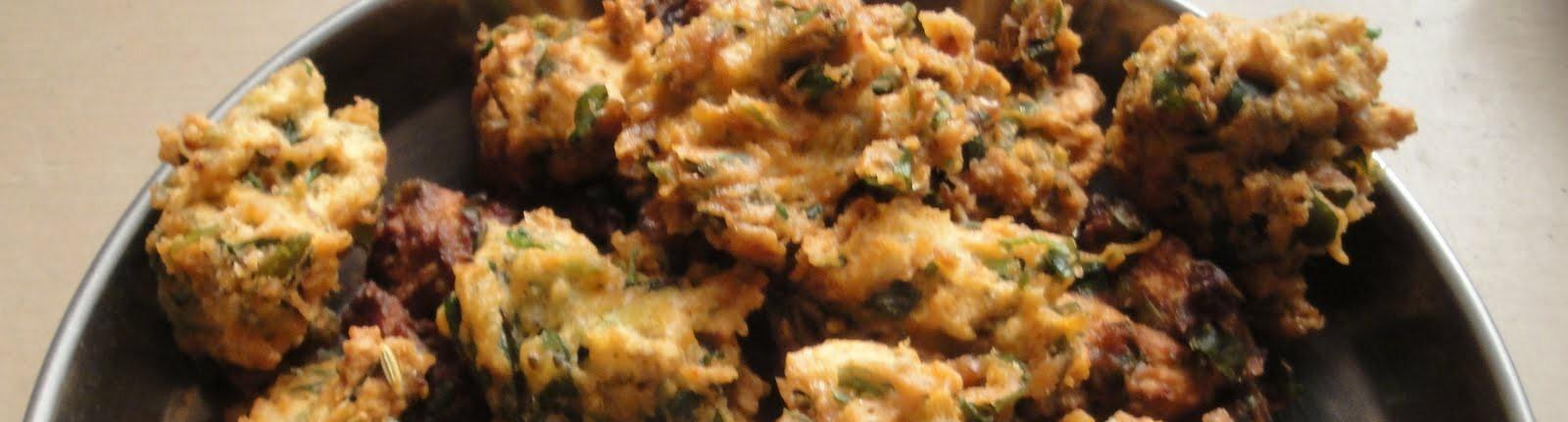OnionPakoda: (142, 0, 1421, 422)
